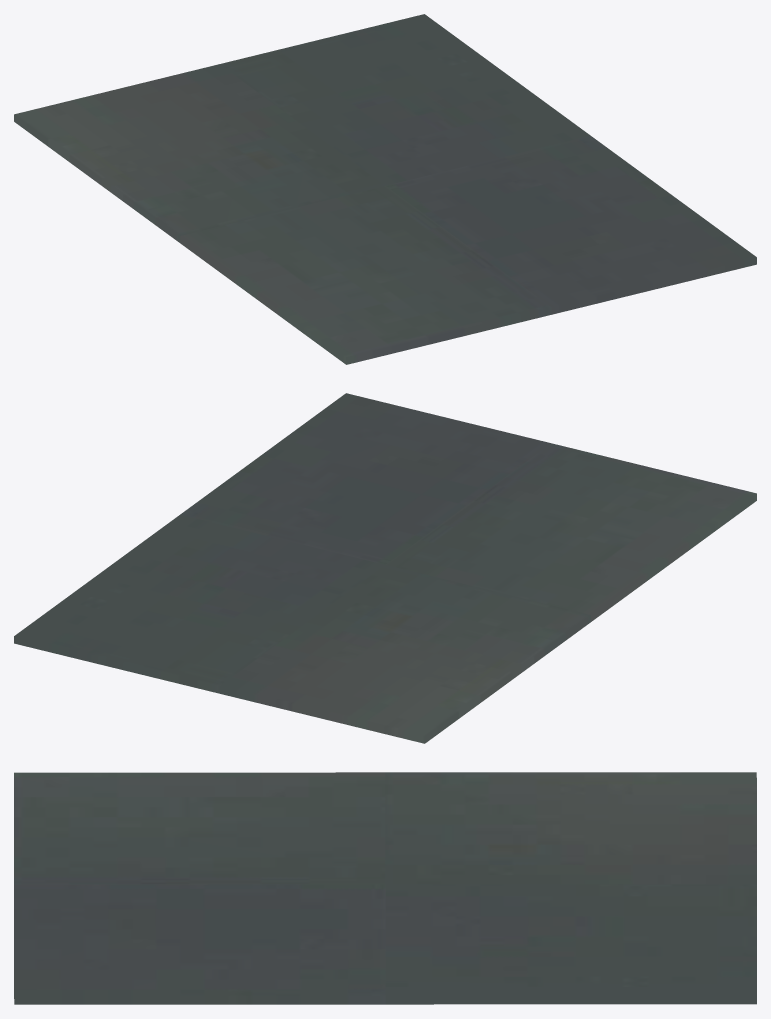
The picture shows the model from 3 angles, top to bottom: view 1: azimuth 30°, elevation 25°; view 2: azimuth 150°, elevation 25°; view 3: azimuth 270°, elevation 25°; orthographic projection. The views are drawn at different scales.
Parts seen in each view (by area): view 1: 30436272704370637631_0; view 2: 30436272704370637631_0; view 3: 30436272704370637631_0.
Boxes of the visible parts, box(x1,y1,x2,y2) form: 30436272704370637631_0: box(14, 14, 756, 364); 30436272704370637631_0: box(14, 393, 756, 743); 30436272704370637631_0: box(14, 772, 756, 1004).
Bounding box in the file's own units: 27.32 × 0.4816 × 38.26.
1 material, 1 textured.
